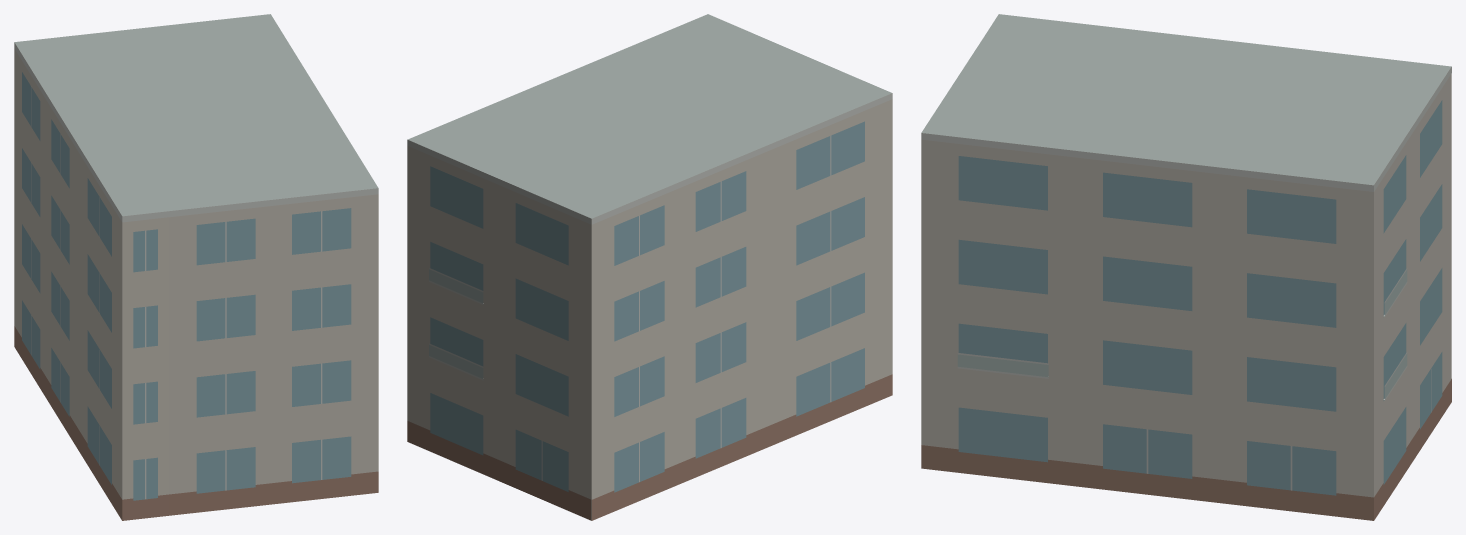
File: survey-upis-33039082.glb
3 renders of one model, left to right at view 1: azimuth 30°, elevation 25°; view 2: azimuth 150°, elevation 25°; view 3: azimuth 270°, elevation 25°, orthographic. The views are drawn at different scales.
Parts seen in each view (by area): view 1: survey-upis-33039082.tmp; view 2: survey-upis-33039082.tmp; view 3: survey-upis-33039082.tmp.
Part boxes in pixels (box(x1,y1,x2,y2)): survey-upis-33039082.tmp: box(14, 14, 378, 520); survey-upis-33039082.tmp: box(407, 14, 892, 520); survey-upis-33039082.tmp: box(921, 14, 1451, 520).
Bounding box in the file's own units: 13.37 × 12.2 × 17.49.
